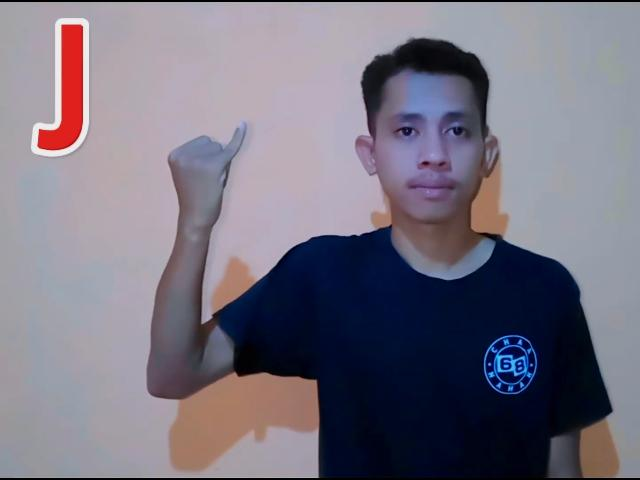J: (164, 120, 246, 224)
